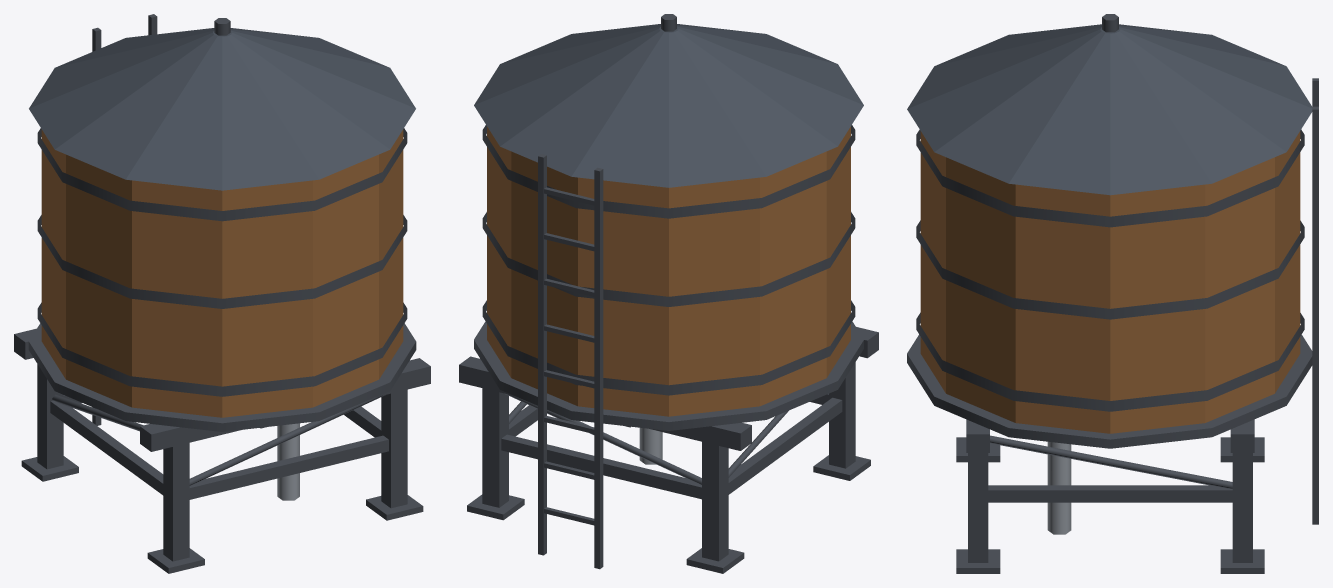
Rendered from roof_tank.glb.
3 views of the same model, side by side, from view 1: azimuth 30°, elevation 25°; view 2: azimuth 150°, elevation 25°; view 3: azimuth 270°, elevation 25° (orthographic). The views are drawn at different scales.
Parts seen in each view (by area): view 1: roof_tank__mesh; view 2: roof_tank__mesh; view 3: roof_tank__mesh.
Part boxes in pixels (x1,y1,x2,y2): roof_tank__mesh: (14, 14, 430, 573); roof_tank__mesh: (459, 14, 878, 573); roof_tank__mesh: (907, 14, 1318, 573).
Bounding box in the file's own units: 2.4 × 3.2 × 2.43.
1 material, 1 textured.
